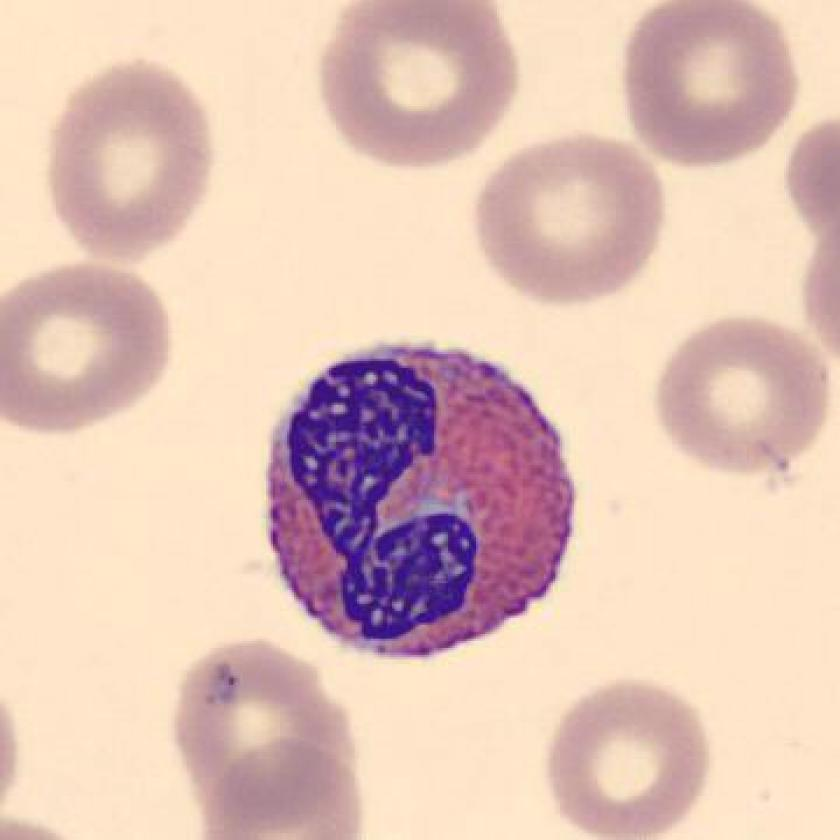eosinophil: (246, 332, 589, 667)
